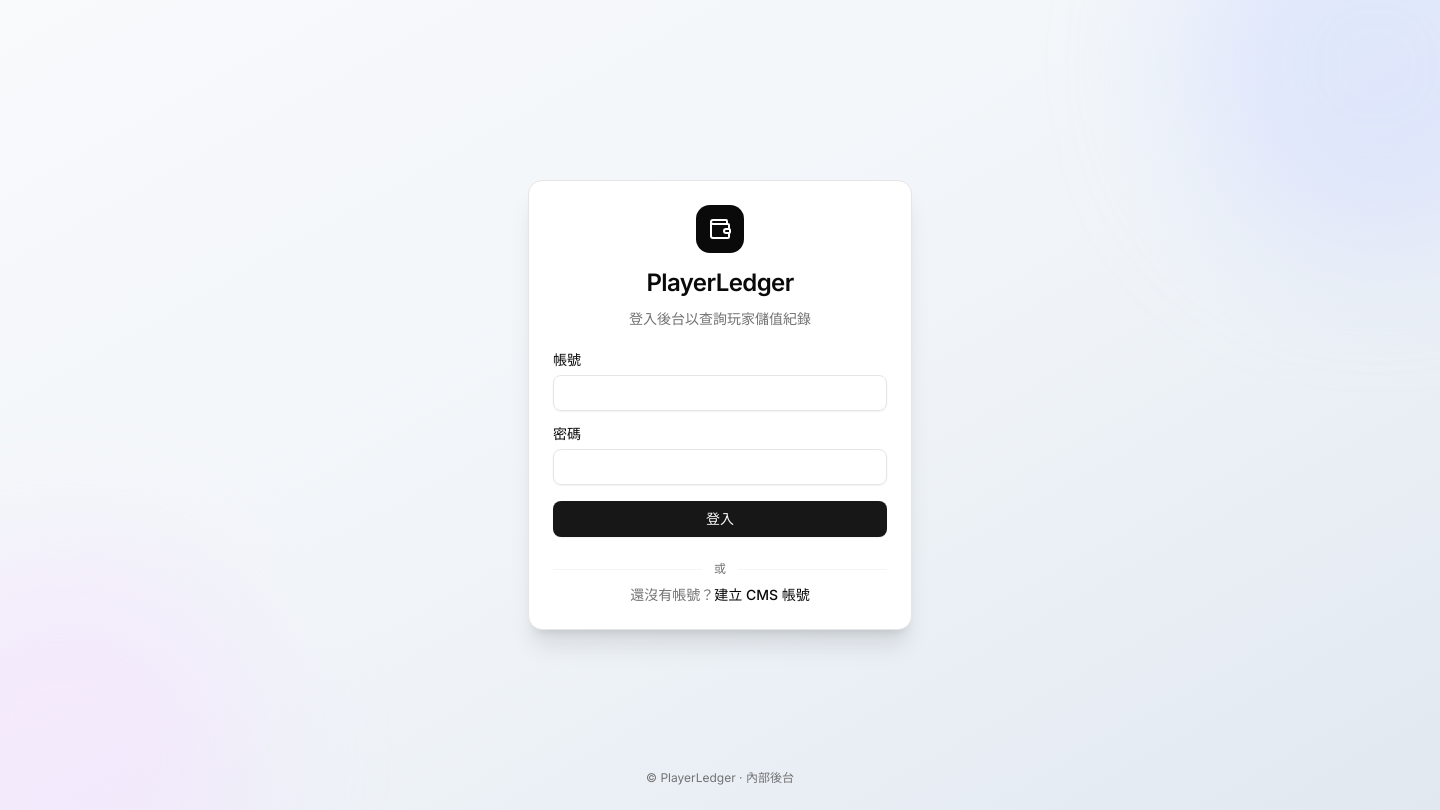
Test: LoginPage › should fall back to the error code when no message is provided
The image size is (1440, 810).
Type "alice" into the field labelled "帳號". click: (720, 393)
box: [553,375,887,411]
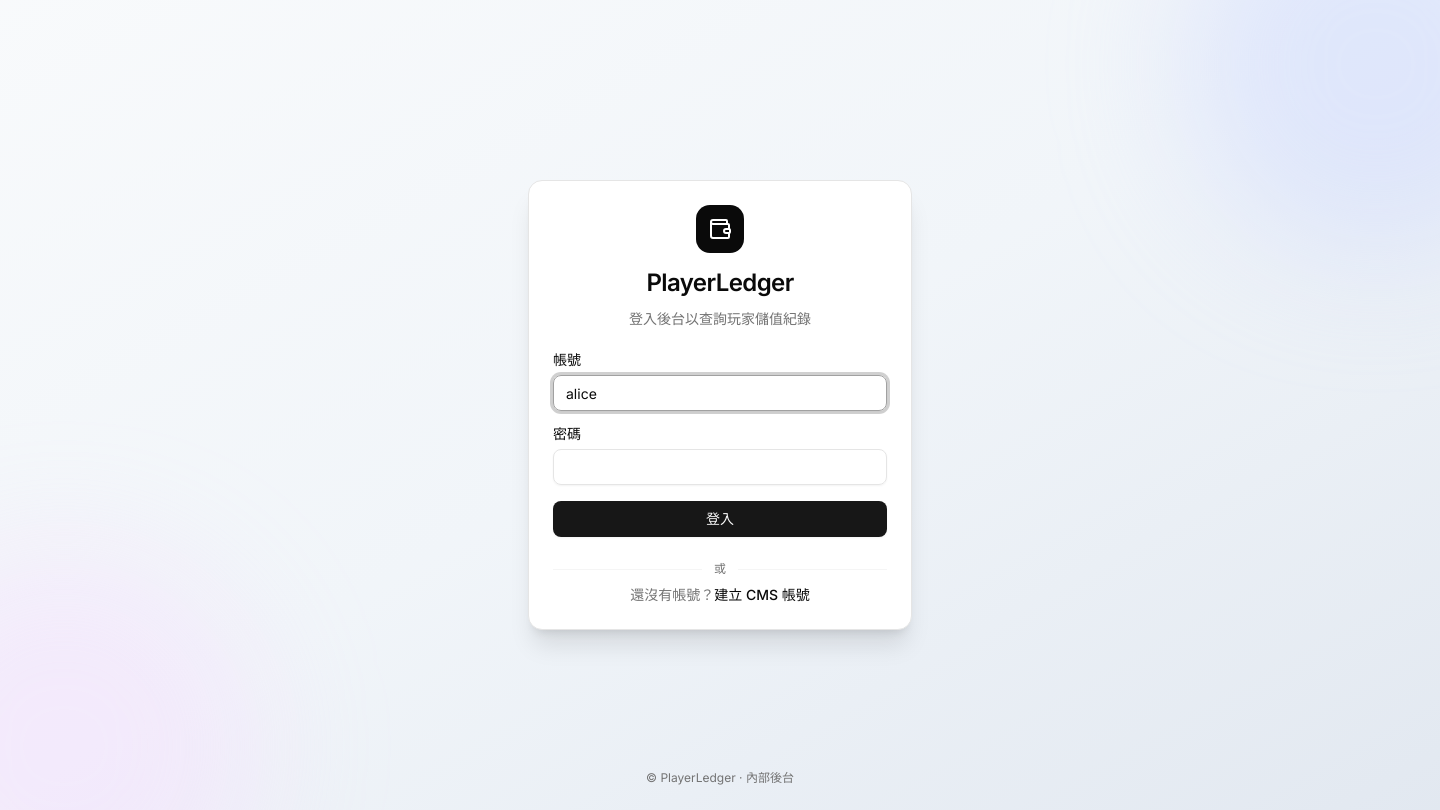
Type "secret" into the password field labelled "密碼". click: (720, 467)
box: [553,449,887,485]
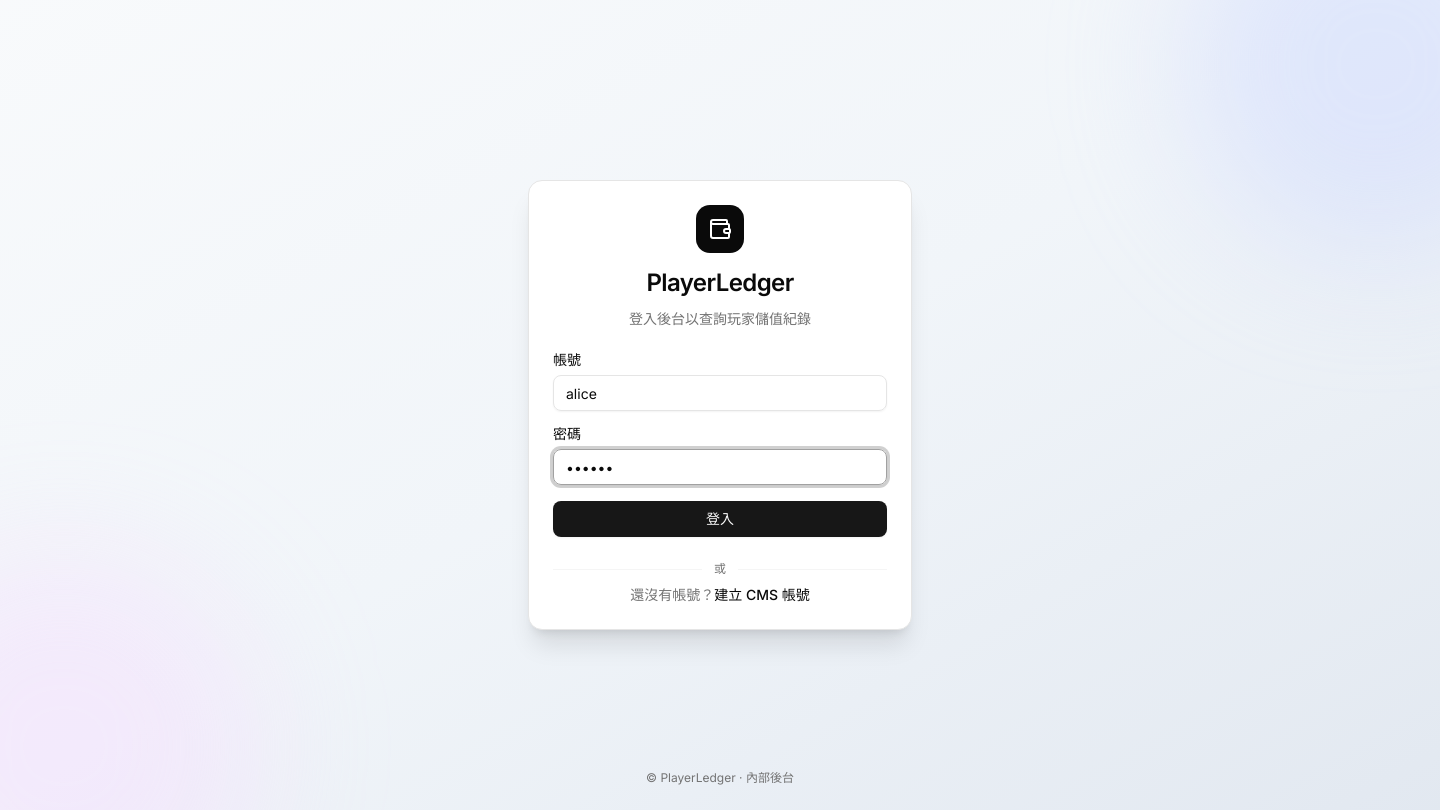
Click the button "登入". click: click(720, 519)
box: [553,501,887,537]
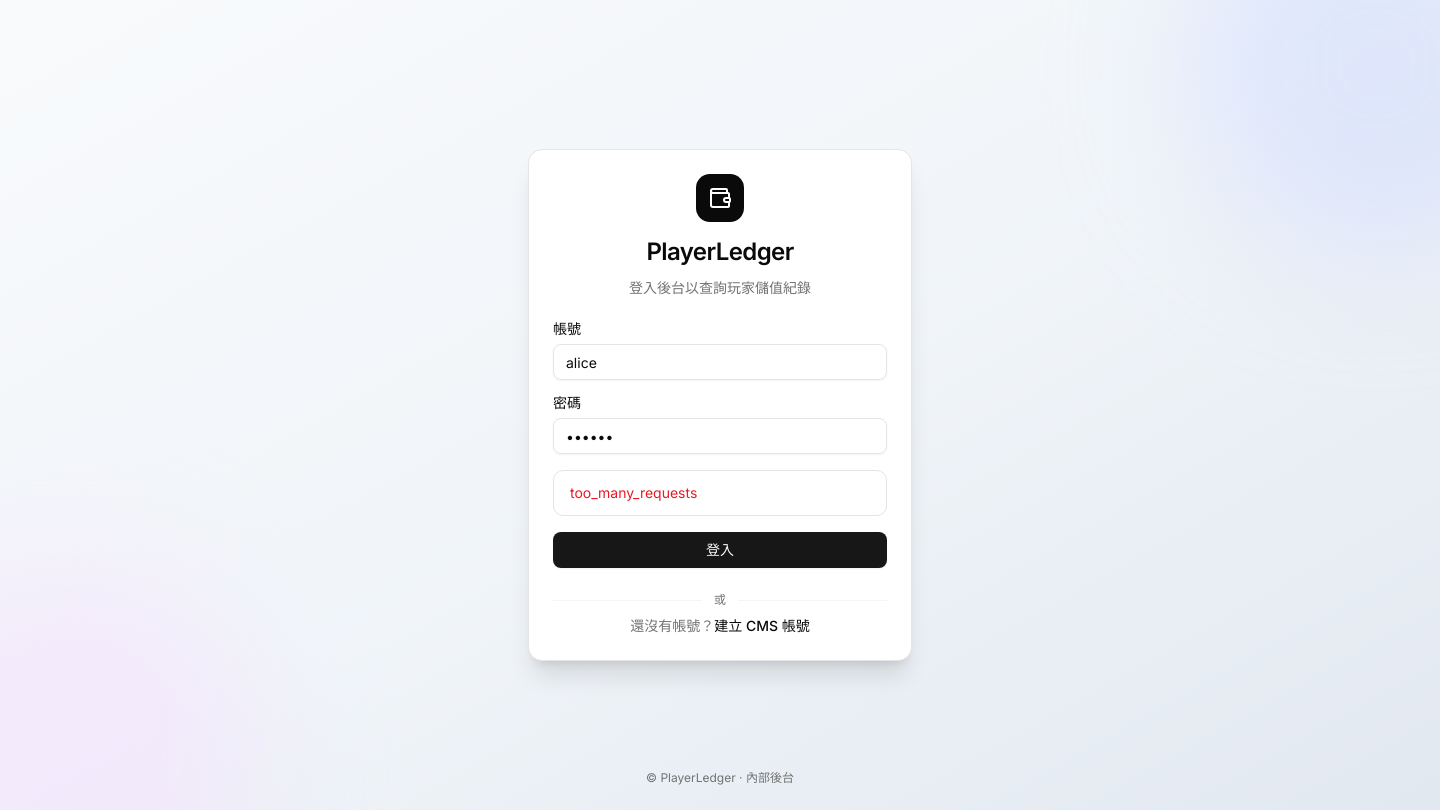
Expected: the message reads "too_many_requests", [570,484,697,501]
